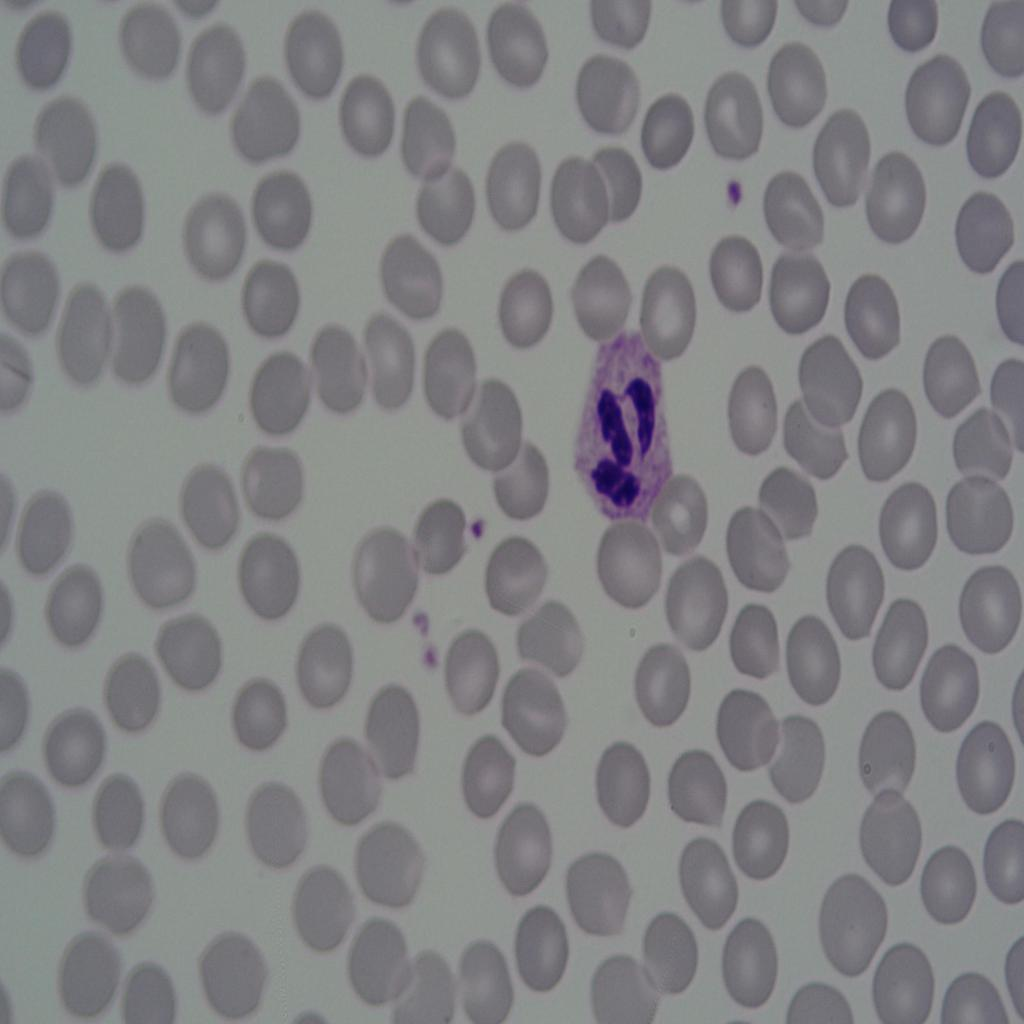Eosinofil: (557, 312, 677, 538)
Platelet: (718, 170, 756, 213), (404, 602, 438, 642), (465, 507, 488, 549), (422, 641, 438, 679)
